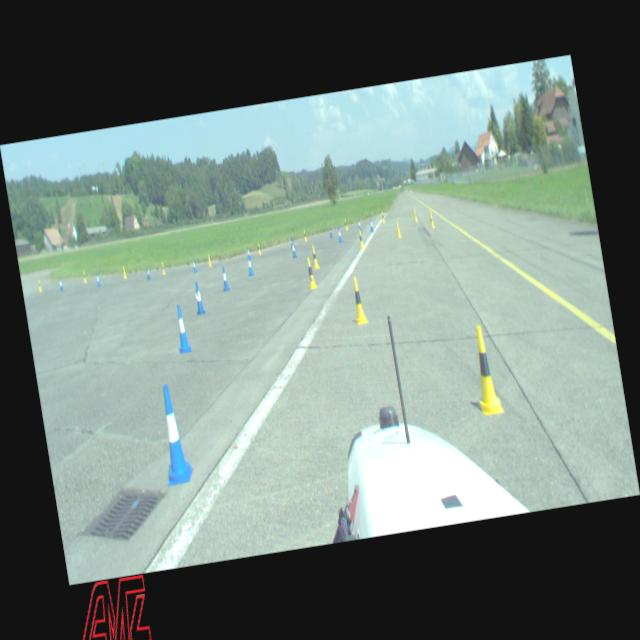blue_cone: (152, 383, 194, 485), (172, 304, 192, 352), (192, 282, 205, 314), (220, 266, 230, 291), (246, 255, 254, 277), (290, 240, 297, 258), (337, 226, 343, 242), (192, 258, 198, 272), (368, 218, 374, 232), (328, 226, 334, 238), (96, 272, 101, 286), (357, 218, 362, 231), (146, 266, 150, 280), (247, 247, 251, 260), (58, 278, 62, 290), (290, 236, 293, 248)
yellow_cone: (466, 325, 504, 415), (348, 276, 369, 324), (304, 256, 318, 288), (310, 244, 320, 268), (394, 219, 402, 238), (358, 230, 365, 250), (428, 210, 435, 228), (37, 279, 42, 291), (122, 266, 127, 278), (414, 208, 418, 222), (258, 242, 262, 255), (208, 254, 212, 267), (162, 262, 166, 274), (303, 230, 307, 242), (344, 218, 348, 230), (83, 271, 87, 283), (381, 212, 385, 222)
